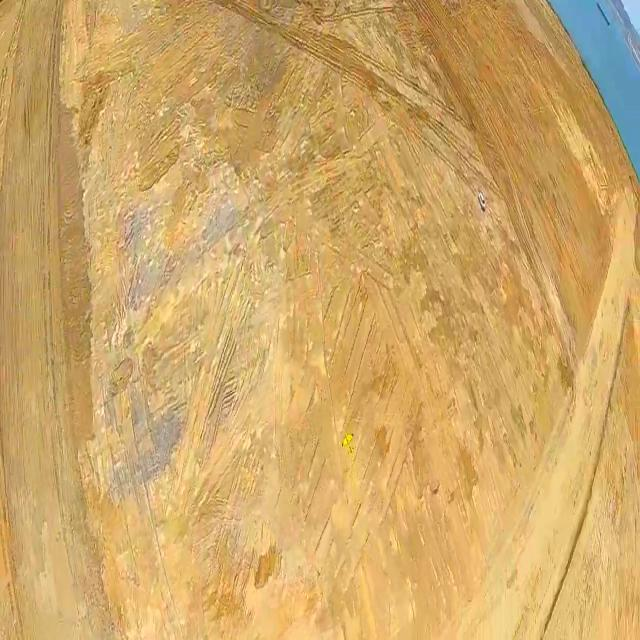iha: (338, 431, 358, 455)
